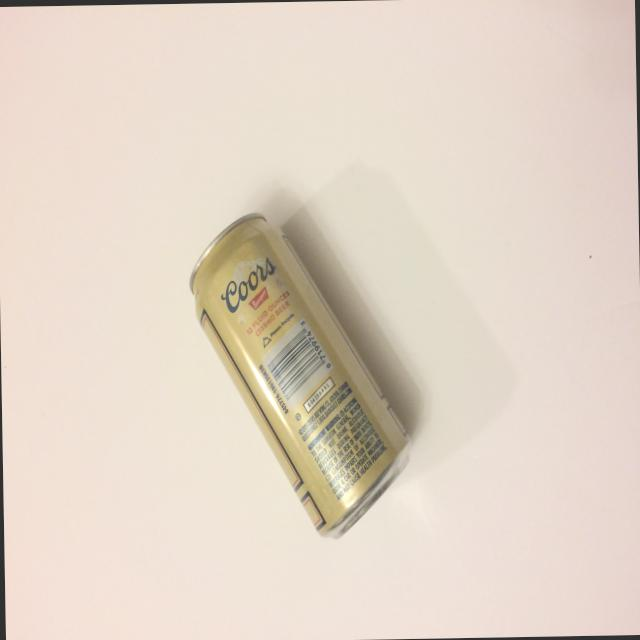Metal: (176, 168, 416, 549)
